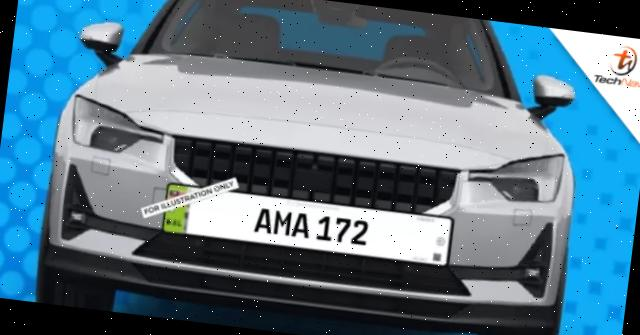License_Plate: (167, 175, 453, 276)
